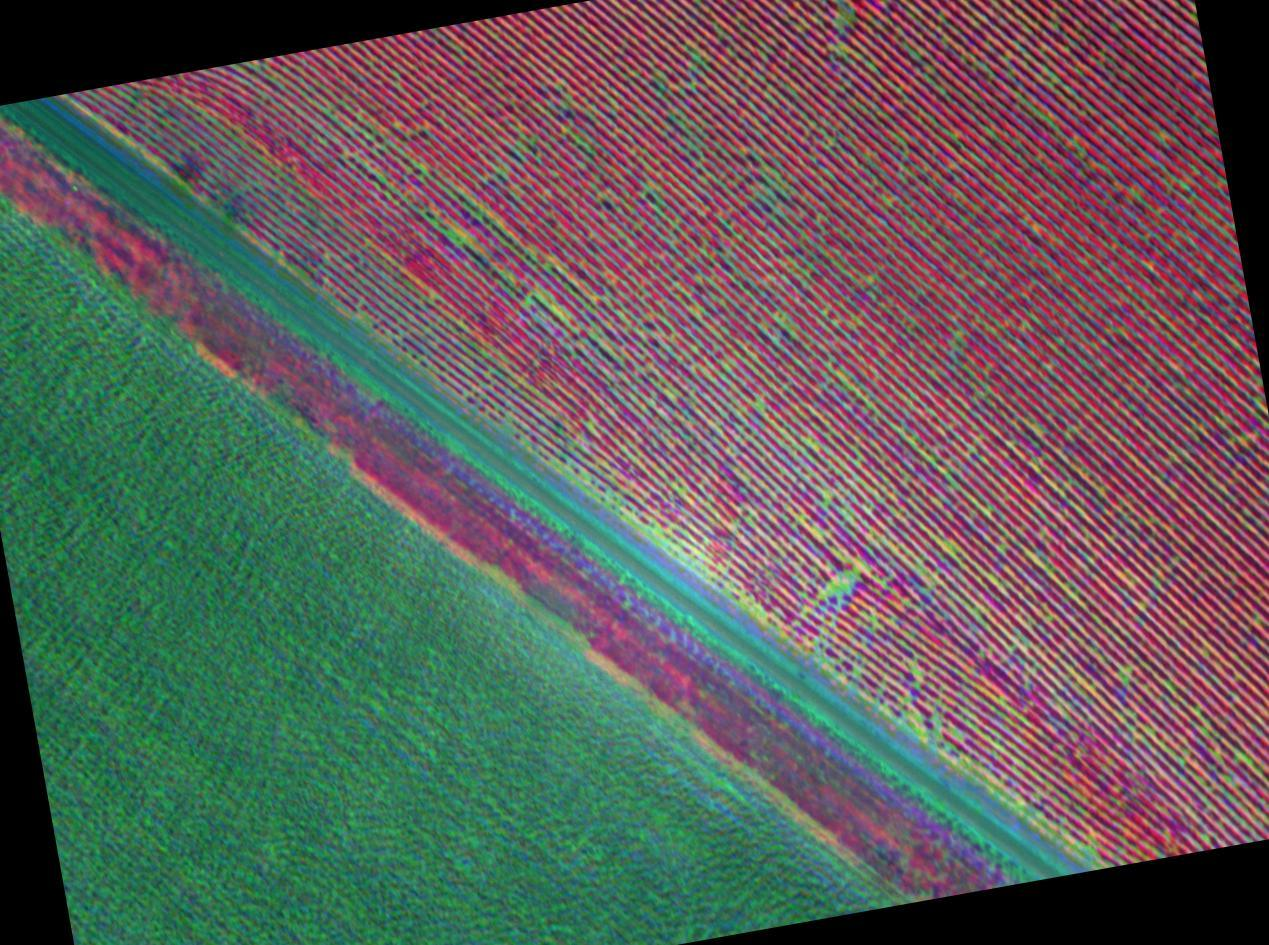dc: (757, 402, 763, 408), (914, 714, 920, 719), (953, 730, 958, 736), (586, 423, 590, 428), (885, 200, 889, 203), (1126, 668, 1129, 672), (1123, 679, 1126, 682)
